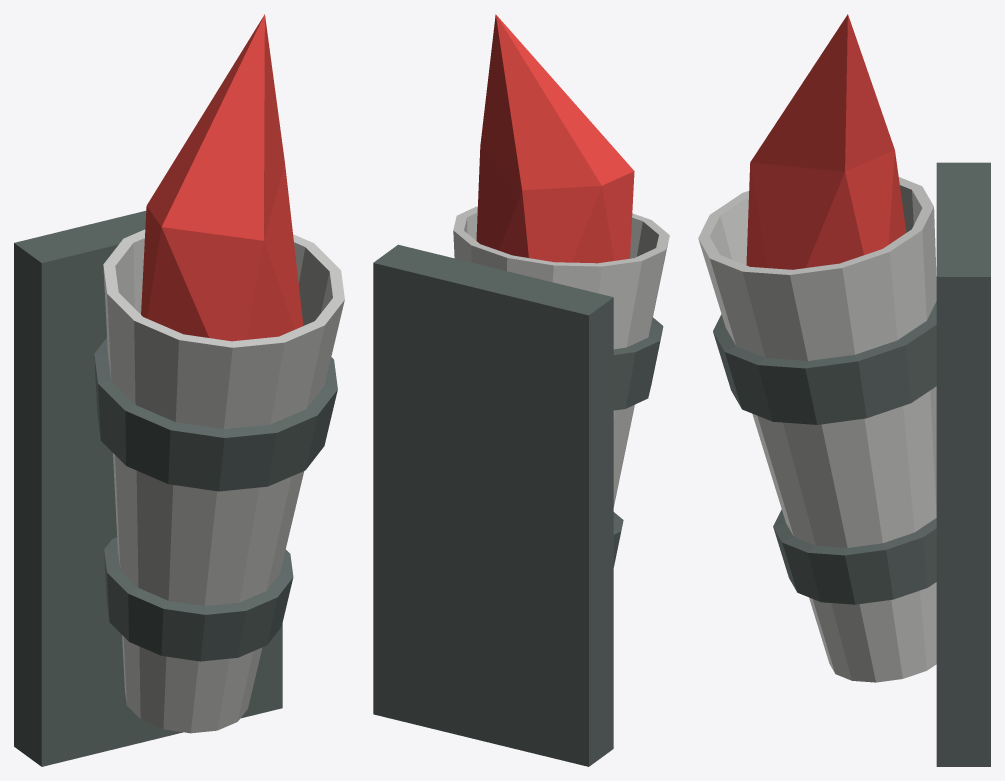
File: Torch_1_White.fbx
3 views of the same model, side by side, from view 1: azimuth 30°, elevation 25°; view 2: azimuth 150°, elevation 25°; view 3: azimuth 270°, elevation 25° (orthographic). The views are drawn at different scales.
Parts seen in each view (by area): view 1: Torch_1_White_Part_1, Torch_1_White_Part_2, Torch_1_White_Part_3; view 2: Torch_1_White_Part_1, Torch_1_White_Part_3, Torch_1_White_Part_2; view 3: Torch_1_White_Part_1, Torch_1_White_Part_2, Torch_1_White_Part_3.
Part boxes in pixels (left/top/right/bottom): Torch_1_White_Part_1: left=14, top=210, right=337, bottom=766; Torch_1_White_Part_2: left=103, top=229, right=344, bottom=733; Torch_1_White_Part_3: left=141, top=14, right=303, bottom=341; Torch_1_White_Part_1: left=373, top=244, right=663, bottom=766; Torch_1_White_Part_3: left=476, top=14, right=634, bottom=263; Torch_1_White_Part_2: left=453, top=206, right=669, bottom=506; Torch_1_White_Part_1: left=713, top=162, right=990, bottom=766; Torch_1_White_Part_2: left=698, top=177, right=936, bottom=682; Torch_1_White_Part_3: left=746, top=14, right=906, bottom=269.
Bounding box in the file's own units: 20 × 59.01 × 21.65.
